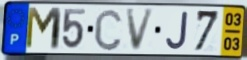5: (62, 8, 89, 51)
7: (193, 9, 221, 53)
C: (93, 7, 124, 53)
J: (164, 10, 191, 51)
M: (23, 6, 64, 53)
V: (124, 7, 156, 53)
